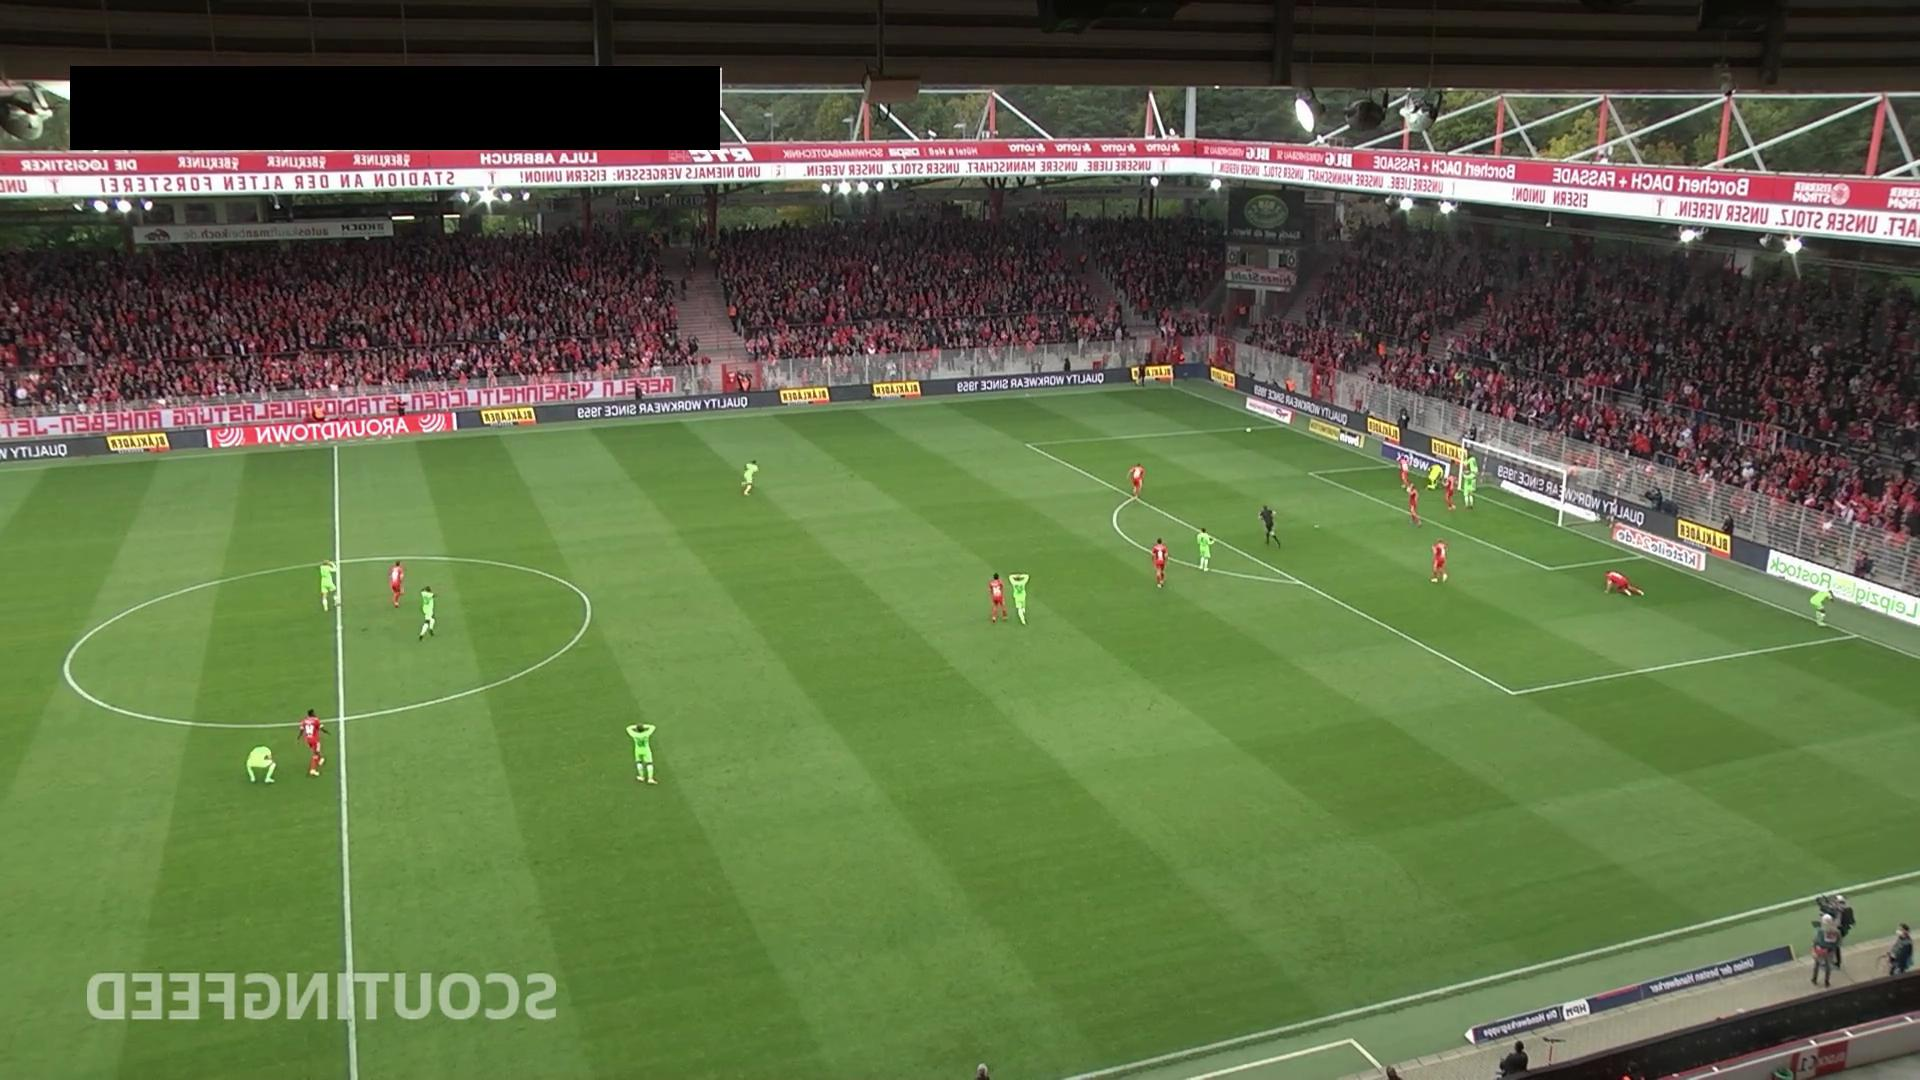ball: (1245, 425, 1254, 436)
goalkeeper: (1422, 461, 1446, 491)
player: (296, 707, 329, 778), (626, 722, 658, 785), (1008, 571, 1031, 628), (245, 744, 277, 783), (1809, 585, 1835, 629), (1604, 570, 1644, 597), (988, 572, 1008, 624), (1150, 536, 1169, 589), (319, 559, 338, 612), (418, 585, 436, 640), (1196, 525, 1215, 572), (388, 560, 406, 608), (1404, 481, 1422, 527), (1126, 461, 1147, 500), (1430, 539, 1448, 583), (1460, 466, 1476, 513), (741, 458, 759, 495), (1396, 454, 1412, 490), (1444, 469, 1458, 510), (1467, 450, 1479, 491)
referee: (1258, 504, 1281, 548), (1134, 354, 1149, 388)
